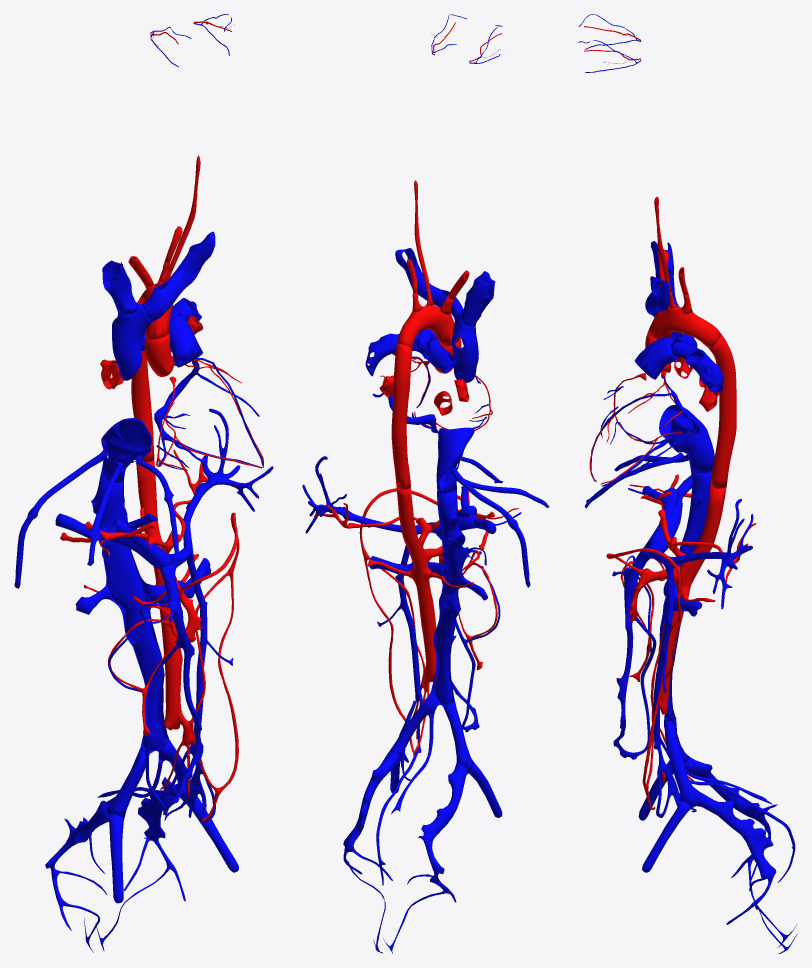
The model's file is 3d-vh-m-blood-vasculature_lod_20.glb.
The picture shows the model from 3 angles, left to right: view 1: azimuth 30°, elevation 25°; view 2: azimuth 150°, elevation 25°; view 3: azimuth 270°, elevation 25°; orthographic projection. The views are drawn at different scales.
Visible parts, largest first — view 1: VH_M_inferior_vena_cava_b, VH_M_descending_aorta_b, VH_M_superior_mesenteric_vein, VH_M_inferior_vena_cava_a, VH_M_splenic_vein, VH_M_brachiocephalic_vein_L, VH_M_superior_vena_cava, VH_M_marginal_artery_of_Drummond, VH_M_descending_aorta_a, VH_M_brachiocephalic_vein_R, VH_M_inferior_mesenteric_vein, VH_M_pulmonary_trunk (+18 smaller); view 2: VH_M_inferior_vena_cava_b, VH_M_descending_aorta_b, VH_M_descending_aorta_a, VH_M_inferior_vena_cava_a, VH_M_internal_iliac_vein_R, VH_M_aortic_arch, VH_M_superior_vena_cava, VH_M_splenic_vein, VH_M_internal_iliac_vein_L, VH_M_brachiocephalic_vein_R, VH_M_brachiocephalic_vein_L, VH_M_marginal_artery_of_Drummond (+9 smaller); view 3: VH_M_descending_aorta_a, VH_M_descending_aorta_b, VH_M_inferior_vena_cava_b, VH_M_inferior_vena_cava_a, VH_M_internal_iliac_vein_L, VH_M_aortic_arch, VH_M_splenic_vein, VH_M_superior_mesenteric_vein, VH_M_pulmonary_artery_L, VH_M_inferior_mesenteric_vein, VH_M_internal_iliac_vein_R, VH_M_marginal_artery_of_Drummond (+12 smaller).
Part boxes in pixels (bbox=[...]): VH_M_inferior_vena_cava_b: bbox=[91, 474, 168, 753]; VH_M_descending_aorta_b: bbox=[136, 460, 182, 730]; VH_M_superior_mesenteric_vein: bbox=[159, 565, 203, 811]; VH_M_inferior_vena_cava_a: bbox=[101, 418, 152, 483]; VH_M_splenic_vein: bbox=[169, 408, 273, 567]; VH_M_brachiocephalic_vein_L: bbox=[142, 231, 215, 321]; VH_M_superior_vena_cava: bbox=[112, 303, 152, 380]; VH_M_marginal_artery_of_Drummond: bbox=[179, 512, 239, 821]; VH_M_descending_aorta_a: bbox=[131, 297, 154, 461]; VH_M_brachiocephalic_vein_R: bbox=[102, 260, 137, 315]; VH_M_inferior_mesenteric_vein: bbox=[186, 549, 207, 755]; VH_M_pulmonary_trunk: bbox=[169, 313, 202, 367]; VH_M_inferior_vena_cava_b: bbox=[430, 489, 465, 707]; VH_M_descending_aorta_b: bbox=[396, 486, 437, 682]; VH_M_descending_aorta_a: bbox=[391, 343, 412, 489]; VH_M_inferior_vena_cava_a: bbox=[436, 427, 474, 493]; VH_M_internal_iliac_vein_R: bbox=[418, 762, 468, 883]; VH_M_aortic_arch: bbox=[397, 304, 459, 349]; VH_M_superior_vena_cava: bbox=[452, 311, 478, 382]; VH_M_splenic_vein: bbox=[302, 456, 440, 534]; VH_M_internal_iliac_vein_L: bbox=[343, 752, 399, 853]; VH_M_brachiocephalic_vein_R: bbox=[461, 271, 495, 326]; VH_M_brachiocephalic_vein_L: bbox=[395, 248, 463, 320]; VH_M_marginal_artery_of_Drummond: bbox=[359, 488, 437, 753]; VH_M_descending_aorta_a: bbox=[709, 334, 736, 488]; VH_M_descending_aorta_b: bbox=[657, 485, 726, 714]; VH_M_inferior_vena_cava_b: bbox=[659, 470, 712, 722]; VH_M_inferior_vena_cava_a: bbox=[659, 405, 714, 472]; VH_M_internal_iliac_vein_L: bbox=[696, 791, 776, 881]; VH_M_aortic_arch: bbox=[647, 306, 721, 348]; VH_M_splenic_vein: bbox=[645, 499, 753, 609]; VH_M_superior_mesenteric_vein: bbox=[613, 546, 651, 753]; VH_M_pulmonary_artery_L: bbox=[670, 338, 723, 392]; VH_M_inferior_mesenteric_vein: bbox=[653, 562, 673, 749]; VH_M_internal_iliac_vein_R: bbox=[684, 757, 777, 847]; VH_M_marginal_artery_of_Drummond: bbox=[606, 548, 681, 809].
Bounding box in the file's own units: 0.2362 × 0.8717 × 0.1873.
